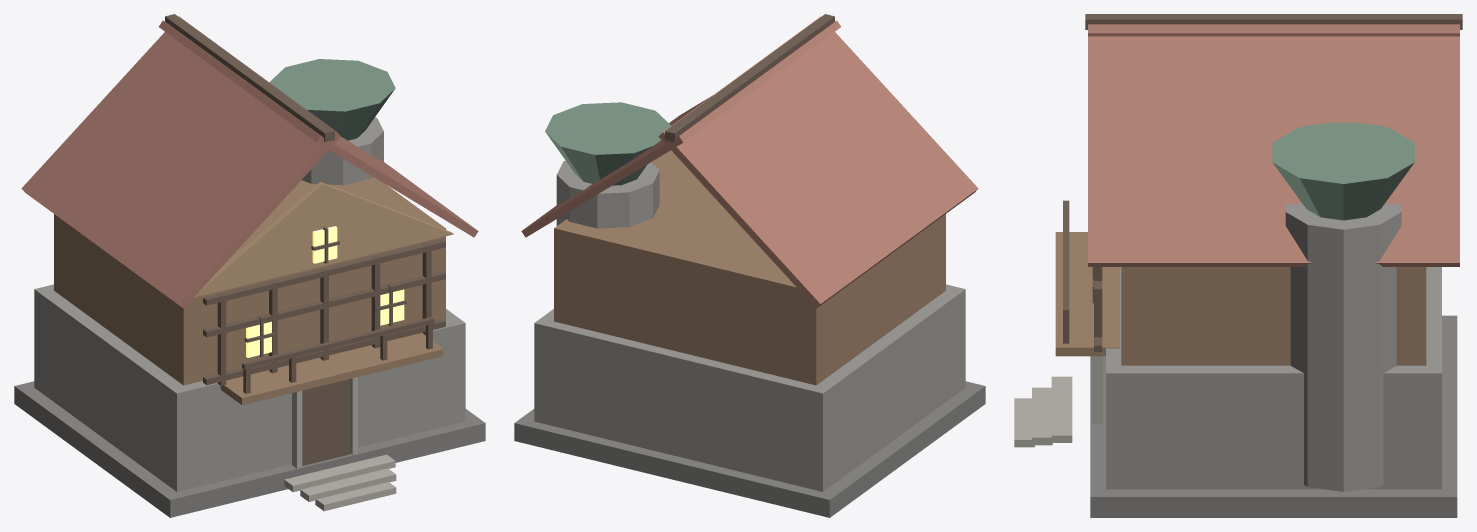
Rendered from Midgard_Craftsman_House_V1_YUP.glb.
The picture shows the model from 3 angles, left to right: view 1: azimuth 30°, elevation 25°; view 2: azimuth 150°, elevation 25°; view 3: azimuth 270°, elevation 25°; orthographic projection. The views are drawn at different scales.
Parts seen in each view (by area): view 1: Craft_Roof_L, Craft_StoneBase, Craft_Upper, Craft_Foundation, Craft_Gable, Craft_TowerRoof, Craft_Balcony, Craft_Roof_R, Craft_Door, Craft_Roof_Ridge, Craft_Beam_5.15, Craft_Tower (+16 smaller); view 2: Craft_StoneBase, Craft_Upper, Craft_Roof_L, Craft_Foundation, Craft_TowerRoof, Craft_Tower, Craft_Roof_R, Craft_Roof_Ridge; view 3: Craft_Roof_R, Craft_StoneBase, Craft_Tower, Craft_Upper, Craft_Foundation, Craft_TowerRoof, Craft_Balcony, Craft_Roof_L, Craft_Roof_Ridge, Craft_Step0, Craft_Step1, Craft_Step2 (+2 smaller).
Boxes of the visible parts, x1,y1,x2,y2 form: Craft_Roof_L: (21, 16, 341, 308); Craft_StoneBase: (34, 284, 465, 491); Craft_Upper: (54, 177, 445, 385); Craft_Foundation: (14, 381, 485, 517); Craft_Gable: (194, 182, 453, 297); Craft_TowerRoof: (269, 59, 395, 140); Craft_Balcony: (220, 333, 443, 405); Craft_Roof_R: (159, 20, 478, 237); Craft_Door: (302, 379, 349, 465); Craft_Roof_Ridge: (165, 14, 334, 142); Craft_Beam_5.15: (203, 239, 445, 305); Craft_Tower: (302, 117, 383, 185); Craft_StoneBase: (534, 284, 965, 491); Craft_Upper: (554, 150, 945, 385); Craft_Roof_L: (658, 16, 978, 308); Craft_Foundation: (514, 381, 985, 517); Craft_TowerRoof: (545, 102, 671, 185); Craft_Tower: (556, 160, 659, 228); Craft_Roof_R: (521, 20, 840, 237); Craft_Roof_Ridge: (665, 14, 834, 142); Craft_Roof_R: (1088, 36, 1459, 266); Craft_StoneBase: (1106, 267, 1441, 489); Craft_Tower: (1285, 204, 1401, 491); Craft_Upper: (1121, 267, 1426, 365); Craft_Foundation: (1090, 315, 1457, 517); Craft_TowerRoof: (1272, 122, 1414, 220); Craft_Balcony: (1055, 232, 1119, 356); Craft_Roof_L: (1088, 24, 1459, 36); Craft_Roof_Ridge: (1085, 14, 1462, 29); Craft_Step0: (1051, 376, 1072, 442); Craft_Step1: (1032, 387, 1052, 445); Craft_Step2: (1014, 398, 1034, 447).
Size of the model in its own units: 8.55 by 8.77 by 8.67.
